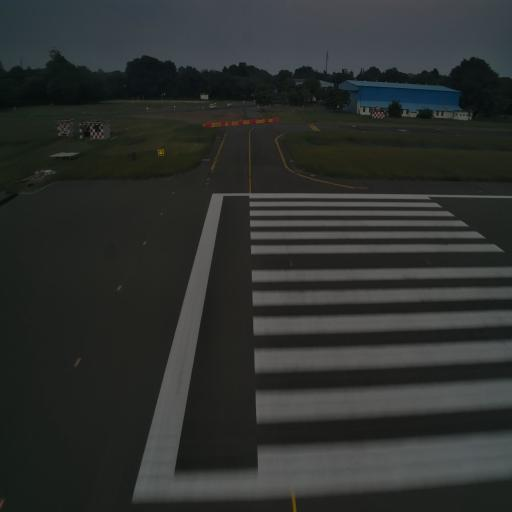on: (0, 491, 7, 511), (74, 356, 83, 368), (117, 283, 122, 292)
